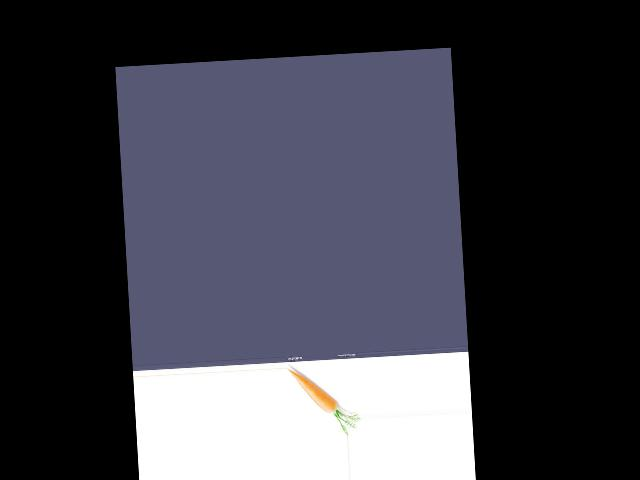carrot: (287, 363, 345, 428)
